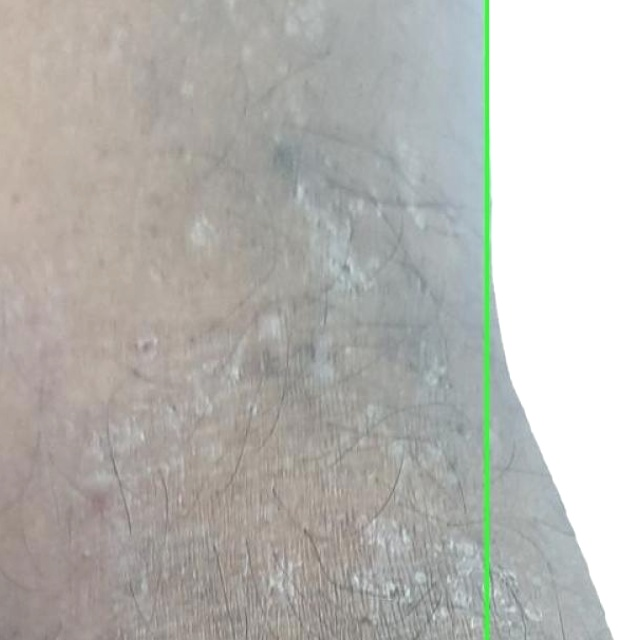Contact Dermatitis: (486, 0, 639, 639)
